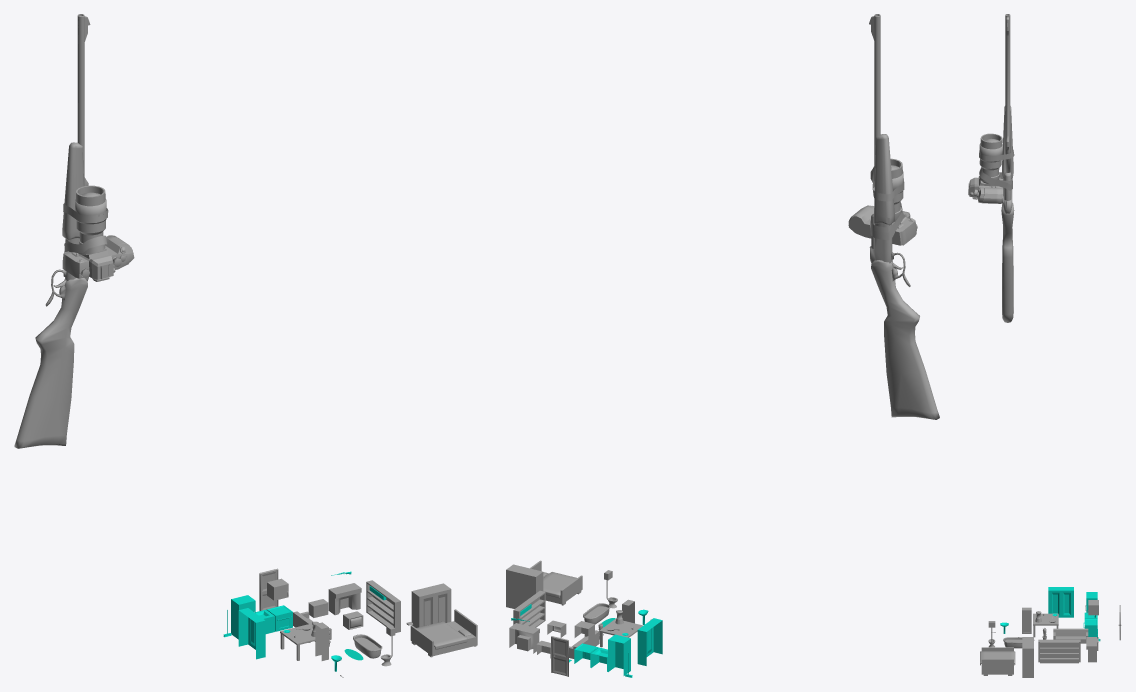
File: tout.fbx
The picture shows the model from 3 angles, left to right: view 1: azimuth 30°, elevation 25°; view 2: azimuth 150°, elevation 25°; view 3: azimuth 270°, elevation 25°; orthographic projection. The views are drawn at different scales.
Visible parts, largest first — view 1: polySurface1, Box060, pCube1, BedRoom_Wardrobe001, pCylinder12, polySurface3, pCylinder4, LivingRoom_Bookshelf001, Kitchen_Cupboard001, LivingRoom_Fireplace001; view 2: polySurface1, polySurface3, BedRoom_Wardrobe001, pCube1, Box060, pCylinder4, Kitchen_Cupboard001, LivingRoom_Bookshelf001, Box036, LivingRoom_Fireplace001; view 3: polySurface1, LivingRoom_Bookshelf001, Box060, pCylinder4, pCylinder12, Kitchen_Cupboard001, pCube1, BedRoom_Wardrobe001, LivingRoom_Sofa001, polySurface3, pCube10, BathRoom_Cupboard001 (+2 smaller).
Part boxes in pixels (x1,y1,x2,y2): polySurface1: [14, 278, 87, 448]; Box060: [410, 609, 477, 657]; pCube1: [62, 235, 134, 281]; BedRoom_Wardrobe001: [411, 583, 451, 627]; pCylinder12: [75, 185, 106, 244]; polySurface3: [62, 142, 83, 240]; pCylinder4: [77, 14, 90, 186]; LivingRoom_Bookshelf001: [366, 580, 400, 632]; Kitchen_Cupboard001: [238, 608, 265, 659]; LivingRoom_Fireplace001: [328, 583, 361, 615]; polySurface1: [871, 260, 939, 419]; polySurface3: [873, 134, 894, 225]; BedRoom_Wardrobe001: [506, 564, 543, 608]; pCube1: [848, 205, 916, 245]; Box060: [530, 560, 582, 605]; pCylinder4: [869, 14, 880, 190]; Kitchen_Cupboard001: [637, 618, 662, 665]; LivingRoom_Bookshelf001: [513, 590, 545, 627]; Box036: [608, 634, 630, 675]; LivingRoom_Fireplace001: [509, 623, 539, 653]; polySurface1: [1001, 203, 1014, 322]; LivingRoom_Bookshelf001: [1038, 639, 1080, 663]; Box060: [980, 647, 1015, 675]; pCylinder4: [1005, 14, 1010, 172]; pCylinder12: [979, 133, 1002, 183]; Kitchen_Cupboard001: [1048, 587, 1073, 617]; pCube1: [968, 176, 1003, 203]; BedRoom_Wardrobe001: [1022, 637, 1033, 677]; LivingRoom_Sofa001: [1053, 628, 1088, 643]; polySurface3: [1002, 106, 1013, 178]; pCube10: [1033, 613, 1058, 637]; BathRoom_Cupboard001: [1022, 607, 1031, 633].
Bounding box in the file's own units: 123 × 188 × 49.5.
